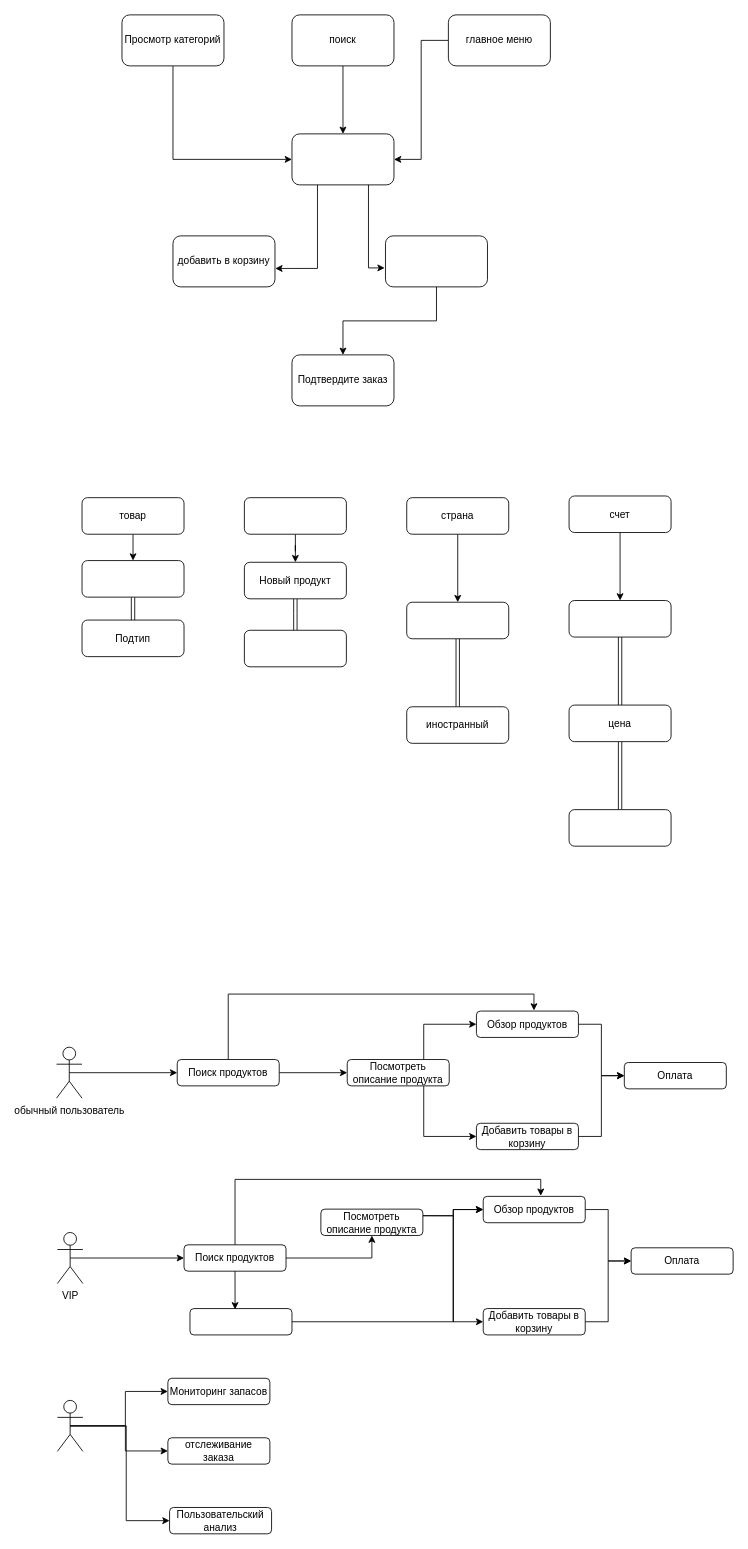
Some shapes in this 748 by 1549 pixel diagram are drawn without their labels. The centre of each missing label's shape, as x and y in pixels:
"администратор" goes at (x=70, y=1425).
"Год" goes at (x=295, y=515).
"Десять лучших продуктов года" goes at (x=295, y=648).
"Заполнить заказ" goes at (x=436, y=261).
"информация о продукте" goes at (x=342, y=159).
"Комментарий" goes at (x=619, y=827).
"Популярность" goes at (x=619, y=618).
"Посмотреть продукты участников" goes at (x=240, y=1321).
"Русский" goes at (x=457, y=620).
"тип" goes at (x=132, y=578).
